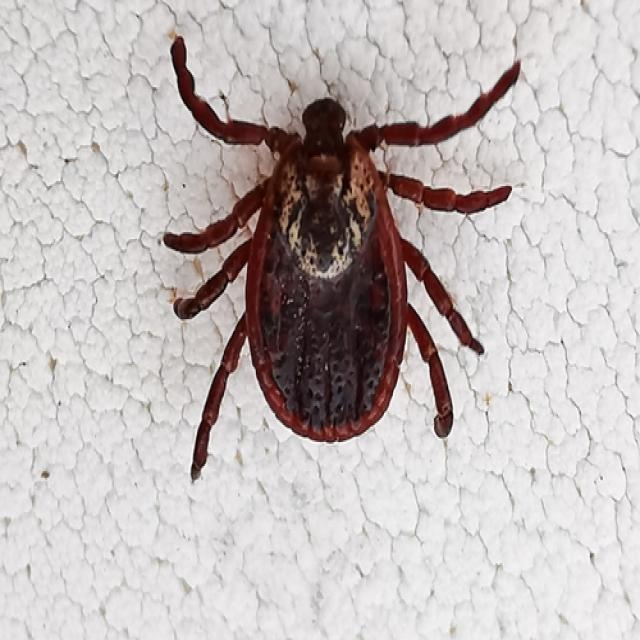Dermacentor Reticulatus-F: (161, 32, 521, 478)
